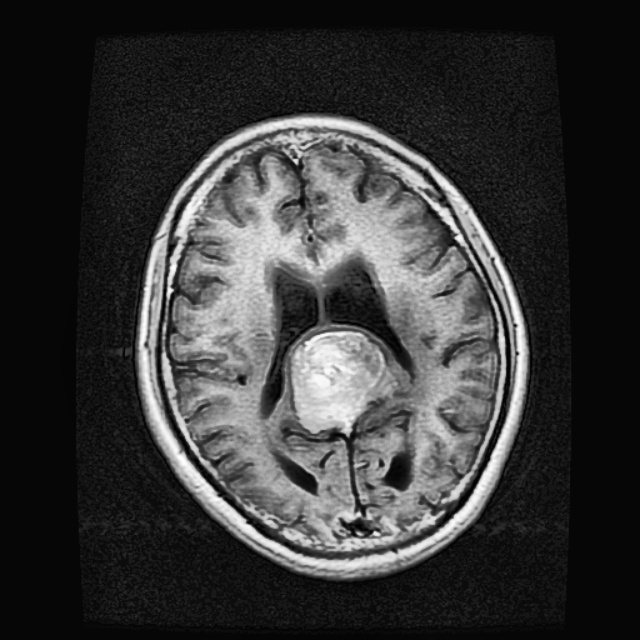Glioma: (289, 330, 395, 433)
